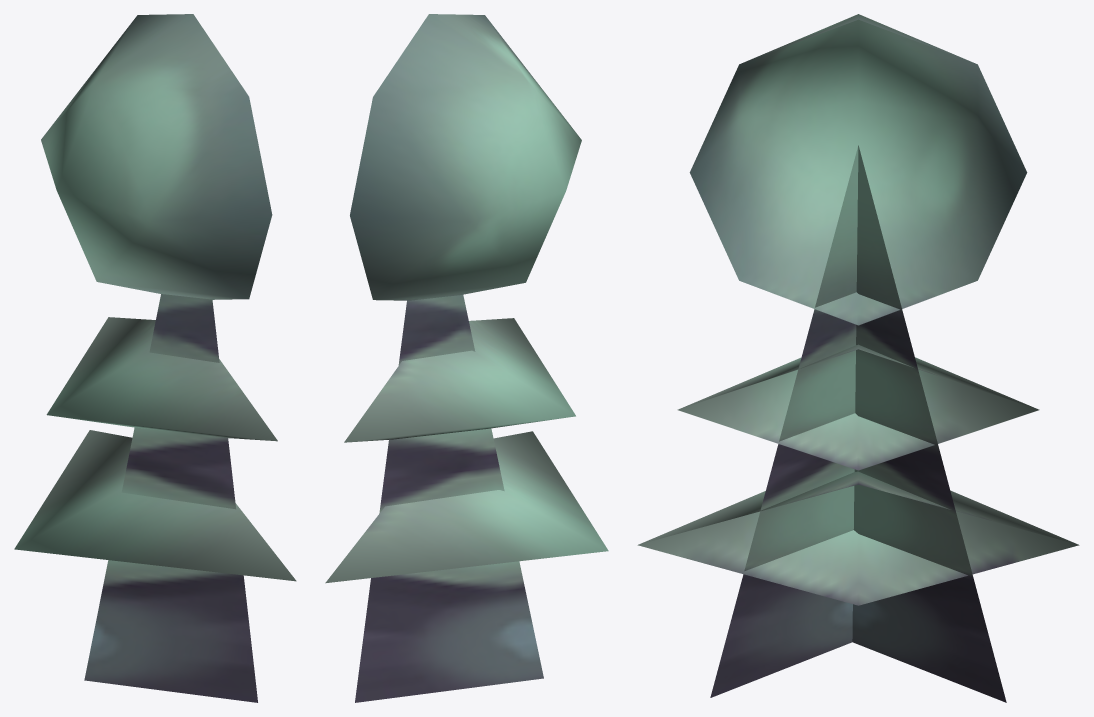
File: Coil01.FBX
3 renders of one model, left to right at view 1: azimuth 30°, elevation 25°; view 2: azimuth 150°, elevation 25°; view 3: azimuth 270°, elevation 25°, orthographic. The views are drawn at different scales.
Visible parts, largest first — view 1: Coil; view 2: Coil; view 3: Coil.
Part boxes in pixels (x1,y1,x2,y2): Coil: (14, 14, 296, 702); Coil: (325, 14, 608, 702); Coil: (637, 14, 1079, 702).
Bounding box in the file's own units: 7.61 × 25.21 × 14.85.
